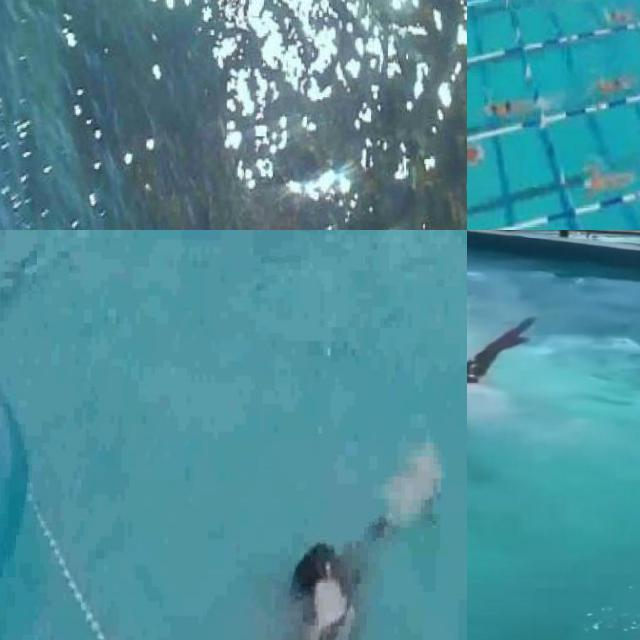drowning: (234, 419, 446, 640), (467, 299, 572, 463)
swimming: (580, 157, 640, 195), (482, 94, 534, 128), (594, 74, 637, 102), (603, 8, 631, 29), (467, 134, 480, 166)
